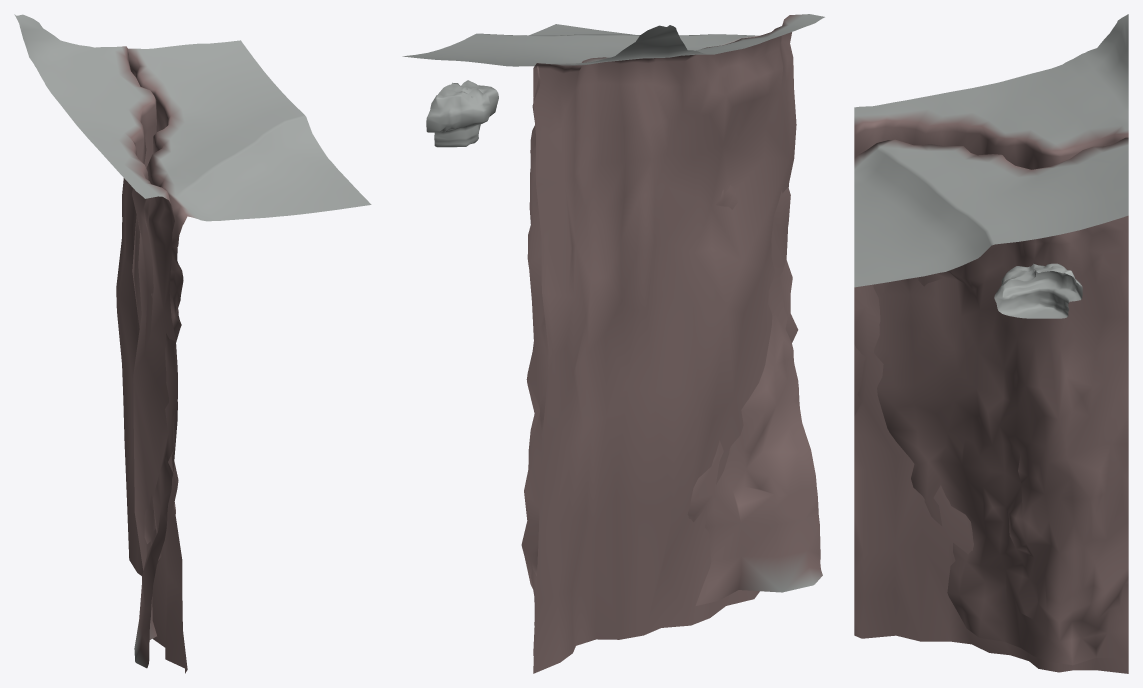
The picture shows the model from 3 angles, left to right: view 1: azimuth 30°, elevation 25°; view 2: azimuth 150°, elevation 25°; view 3: azimuth 270°, elevation 25°; orthographic projection. The views are drawn at different scales.
Visible parts, largest first — view 1: G:\FFXIV-MapTools\exports\u5f1\bg\ex4\04_uvs_u5\fld\u5f1\bgp (×10); view 2: G:\FFXIV-MapTools\exports\u5f1\bg\ex4\04_uvs_u5\fld\u5f1\bgp (×10); view 3: G:\FFXIV-MapTools\exports\u5f1\bg\ex4\04_uvs_u5\fld\u5f1\bgp (×13).
Part boxes in pixels (left/top/right/bottom): G:\FFXIV-MapTools\exports\u5f1\bg\ex4\04_uvs_u5\fld\u5f1\bgp (×10): left=14, top=14, right=371, bottom=673; G:\FFXIV-MapTools\exports\u5f1\bg\ex4\04_uvs_u5\fld\u5f1\bgp (×10): left=402, top=14, right=824, bottom=673; G:\FFXIV-MapTools\exports\u5f1\bg\ex4\04_uvs_u5\fld\u5f1\bgp (×13): left=854, top=14, right=1128, bottom=673.
Size of the model in its own units: 128 by 310 by 128.
